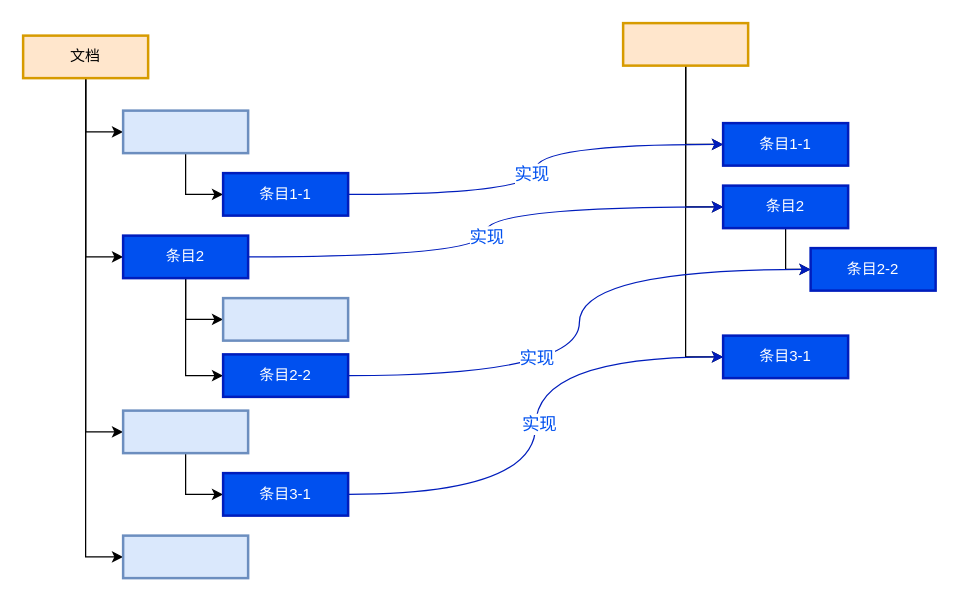
Some shapes in this 958 by 600 pixel diagram are drawn without their labels. Each missing label, with the centre of its shape:
分发文档: the point at 685,43
条目1: the point at 185,131
条目2-1: the point at 285,318
条目3: the point at 185,431
条目4: the point at 185,556
